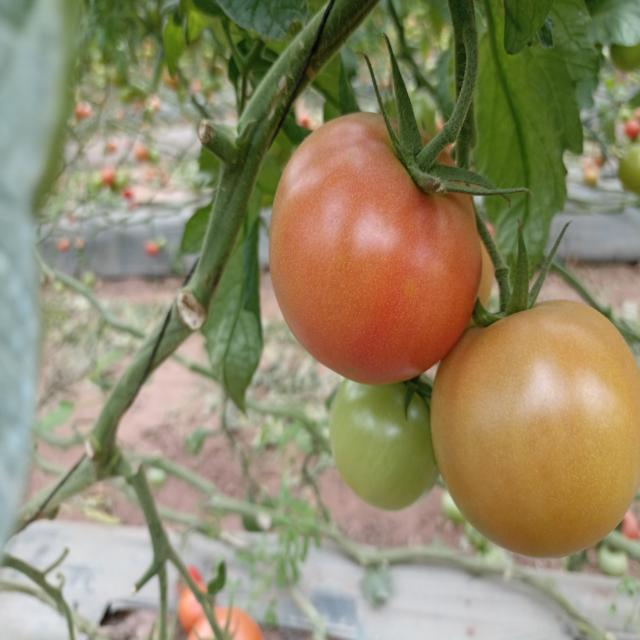Ripe Tomato: (270, 113, 486, 381)
Unripe Tomato: (432, 301, 640, 562), (329, 378, 441, 511)
